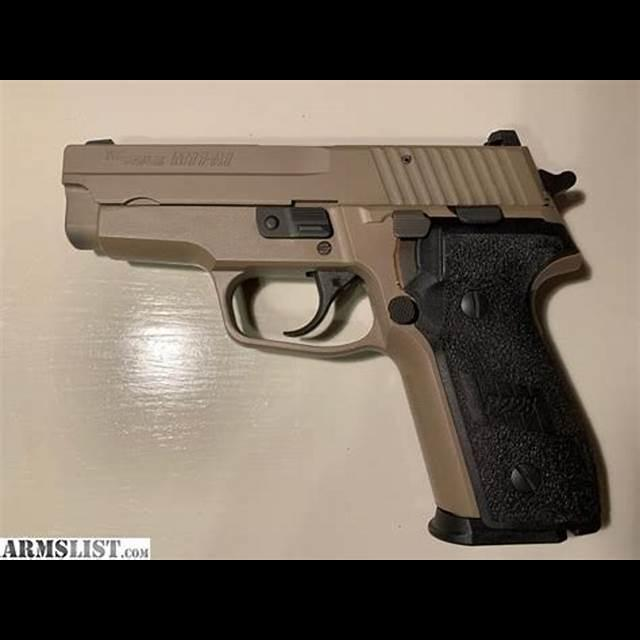handgun: (56, 126, 614, 548)
